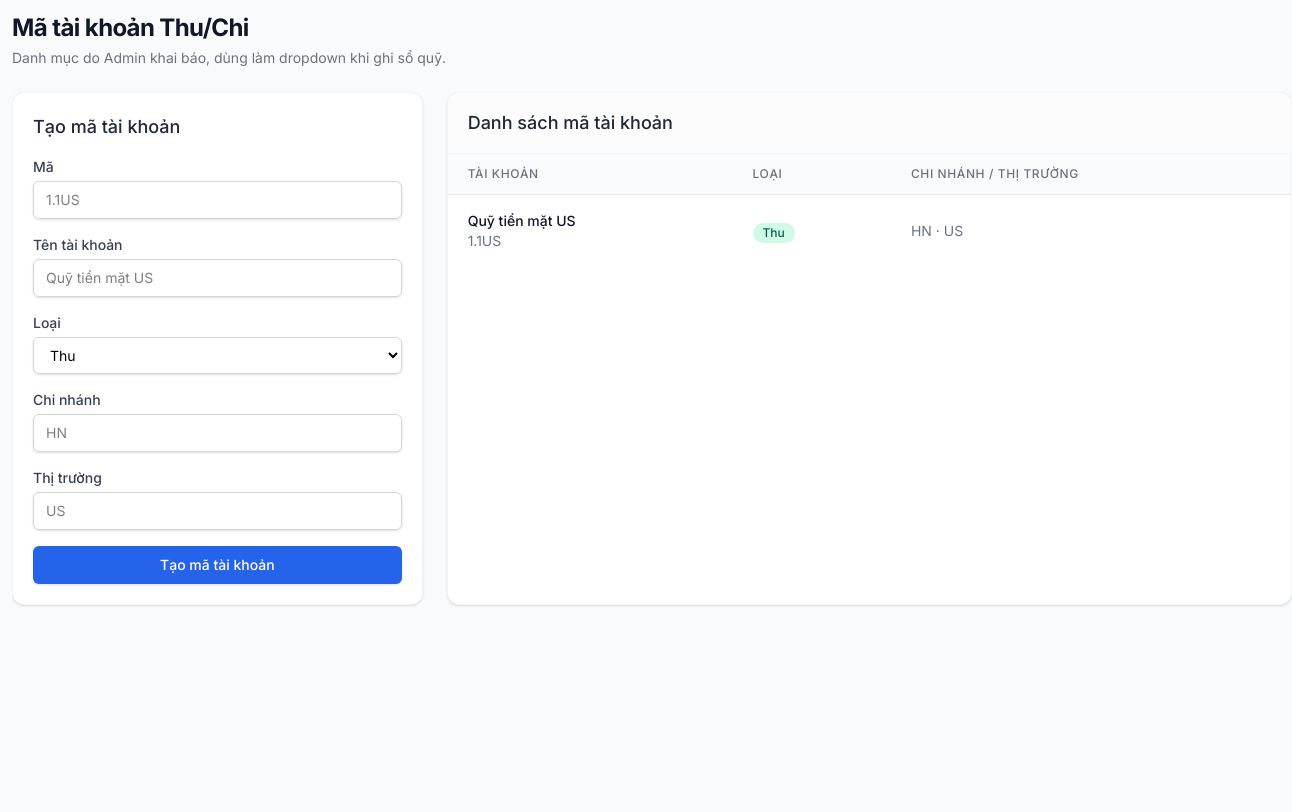
Scenario: CashAccountsPage › hiển thị danh sách mã tài khoản và tạo mới qua form
Expected: the text "Quỹ tiền mặt US" is shown, left=468, top=212, right=576, bottom=229
Expected: the text "1.1US" is shown, left=468, top=232, right=501, bottom=249
In the field labelled "Mã": [217, 200] box left=33, top=181, right=402, bottom=219, type "2.1HN"
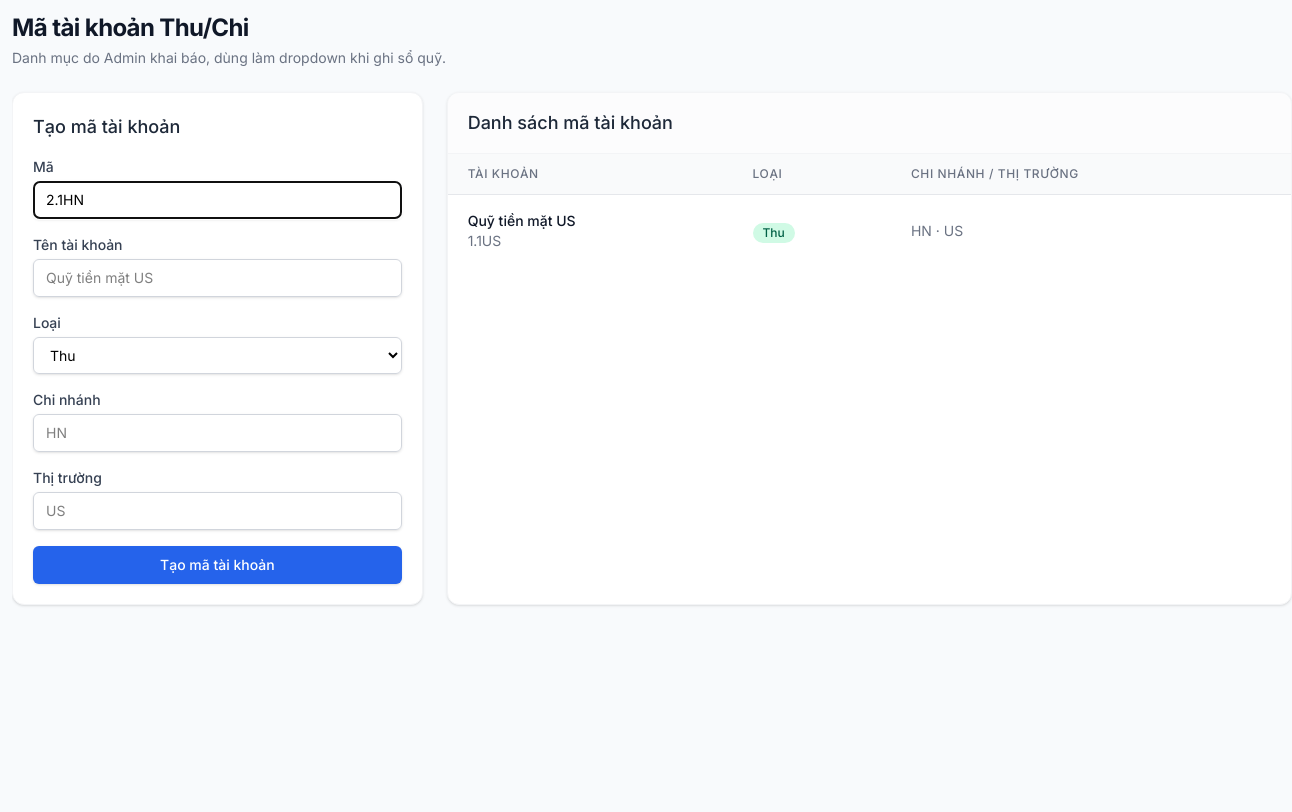
In the field labelled "Tên tài khoản": [217, 278] box left=33, top=259, right=402, bottom=297, type "Quỹ chi phí HN"
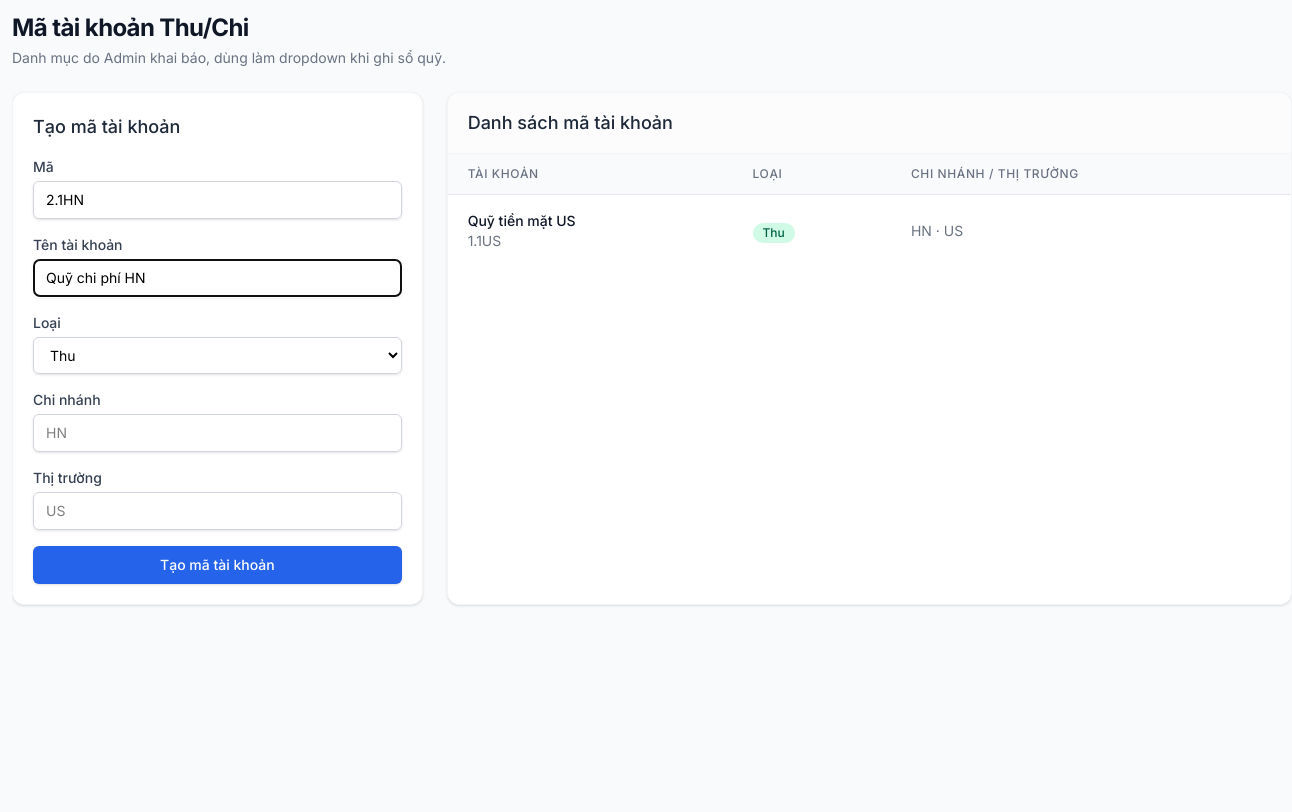
Select "Chi" in the dropdown labelled "Loại": [217, 356] box left=33, top=337, right=402, bottom=374
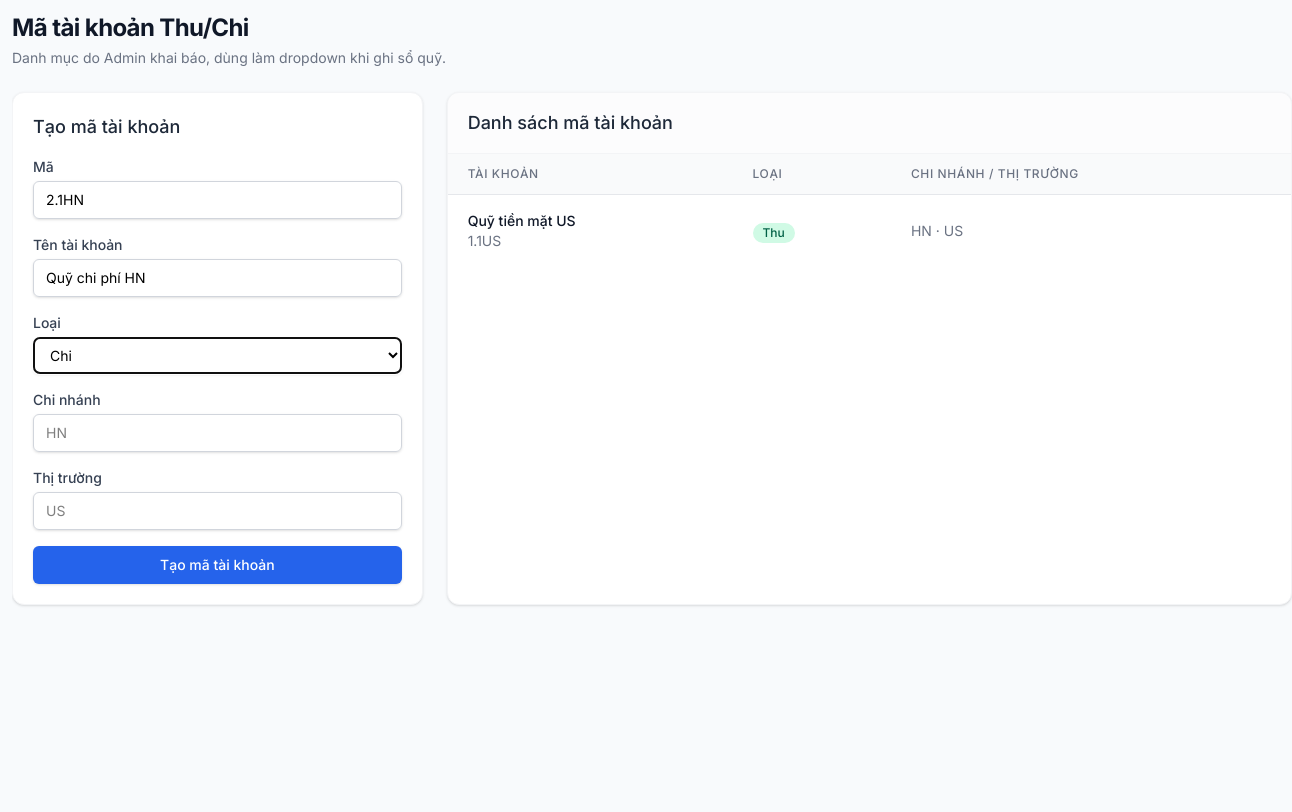
Click the button "Tạo mã tài khoản": [217, 565] box left=33, top=546, right=402, bottom=584
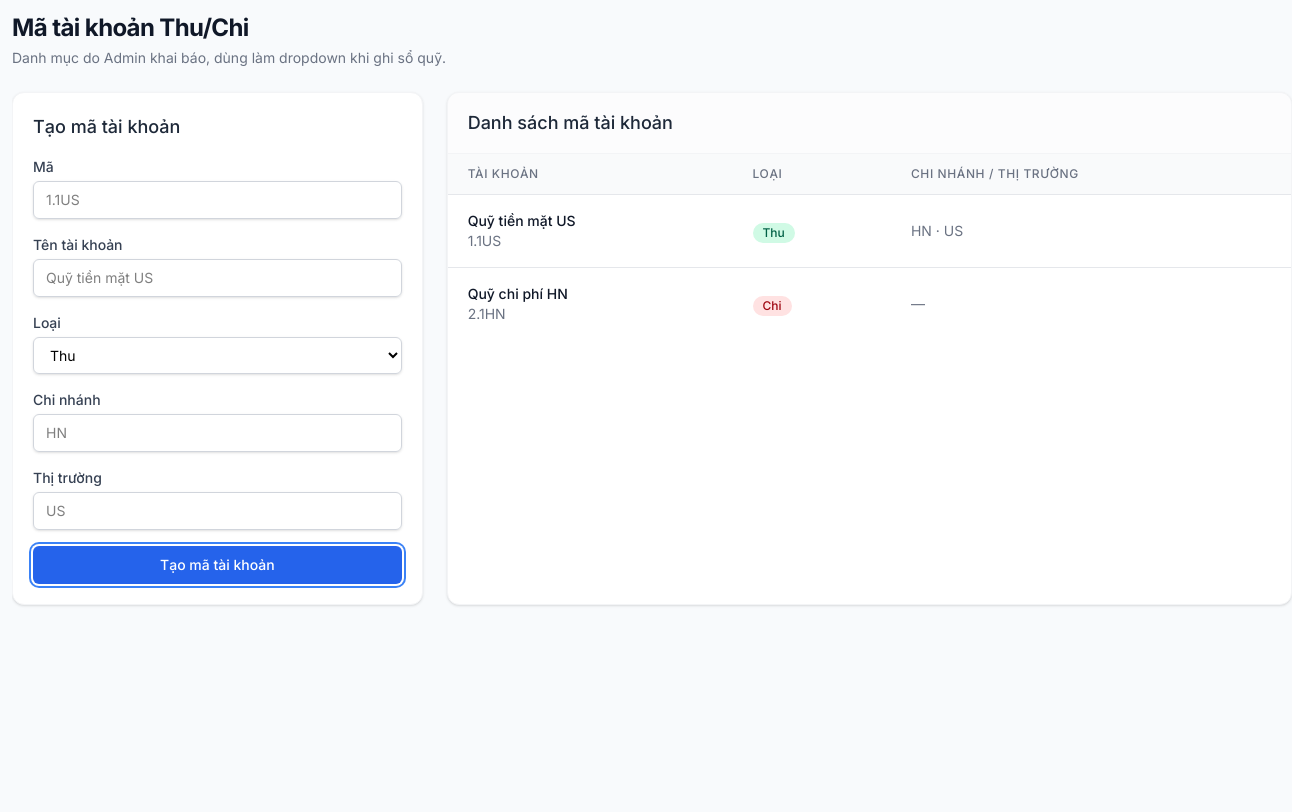
Now the text "Quỹ chi phí HN" is shown, box left=468, top=285, right=568, bottom=302
